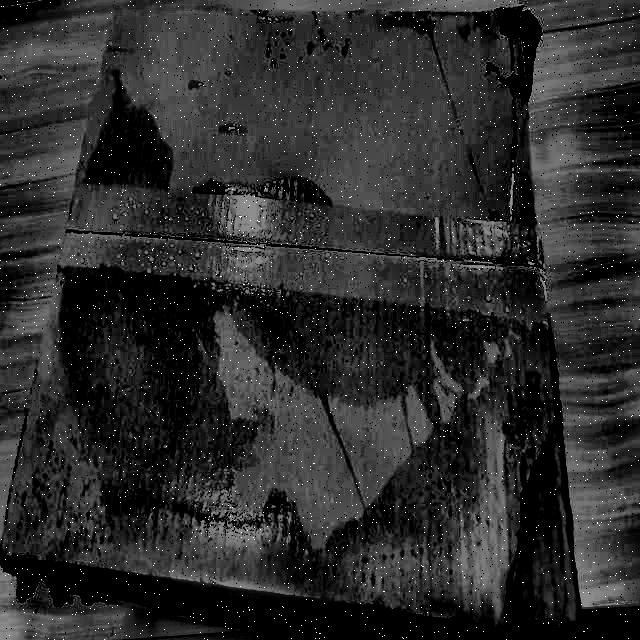box: (1, 0, 597, 639)
hole: (487, 7, 541, 83)
wet: (0, 262, 579, 618)
